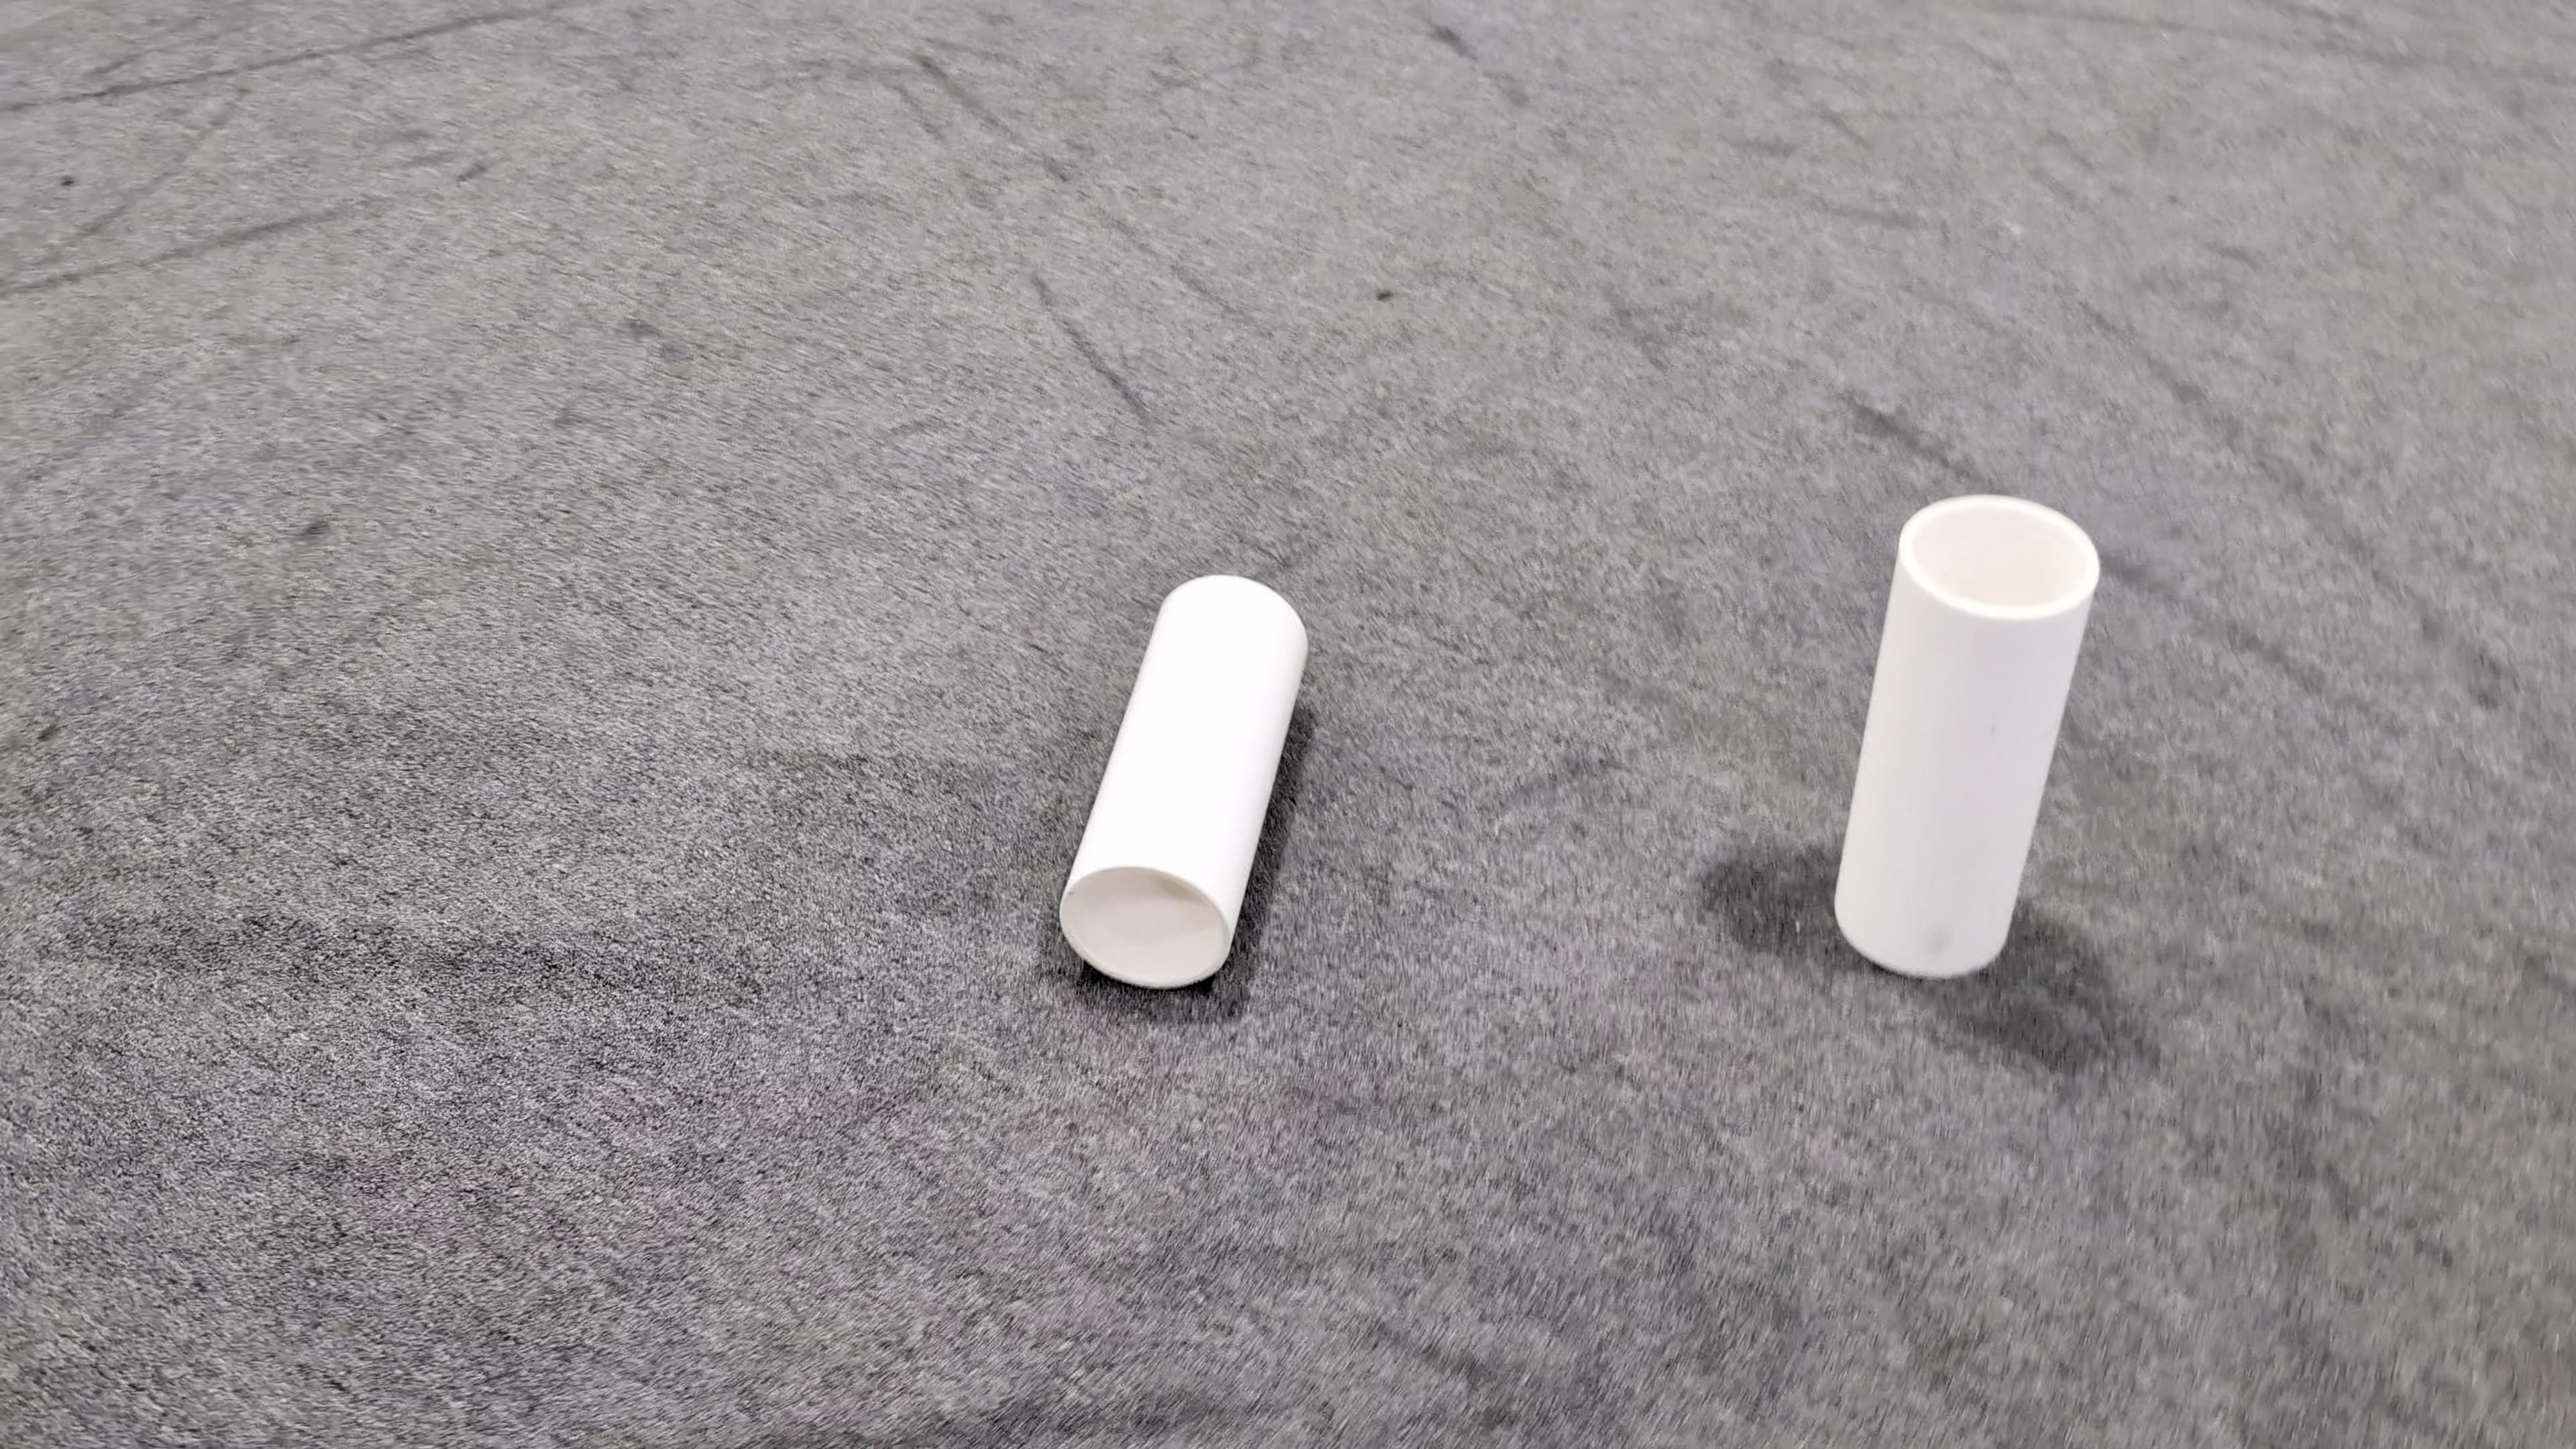coral: (1829, 494, 2102, 978), (1056, 575, 1313, 991)
